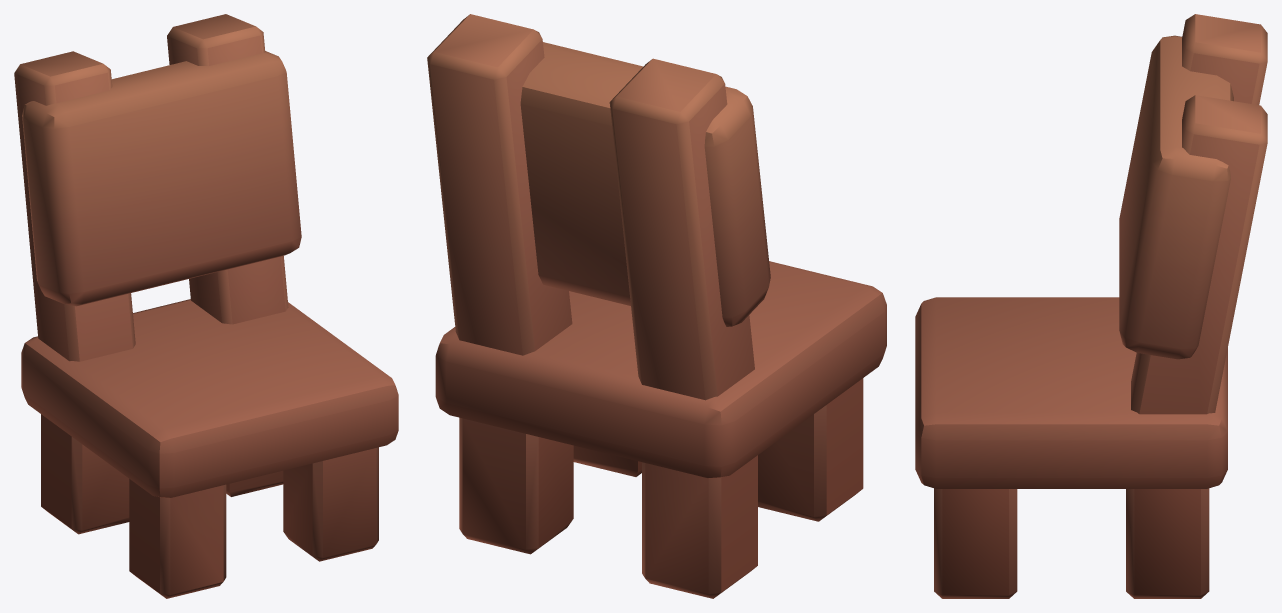
Rendered from furn_chair_wood_b.glb.
The picture shows the model from 3 angles, left to right: view 1: azimuth 30°, elevation 25°; view 2: azimuth 150°, elevation 25°; view 3: azimuth 270°, elevation 25°; orthographic projection. The views are drawn at different scales.
Visible parts, largest first — view 1: chair_B_wood; view 2: chair_B_wood; view 3: chair_B_wood.
Boxes of the visible parts, bbox=[...] form: chair_B_wood: bbox=[14, 14, 398, 598]; chair_B_wood: bbox=[427, 14, 886, 598]; chair_B_wood: bbox=[915, 14, 1267, 598].
Size of the model in its own units: 0.75 by 1.26 by 0.8451.
1 material, 1 textured.
